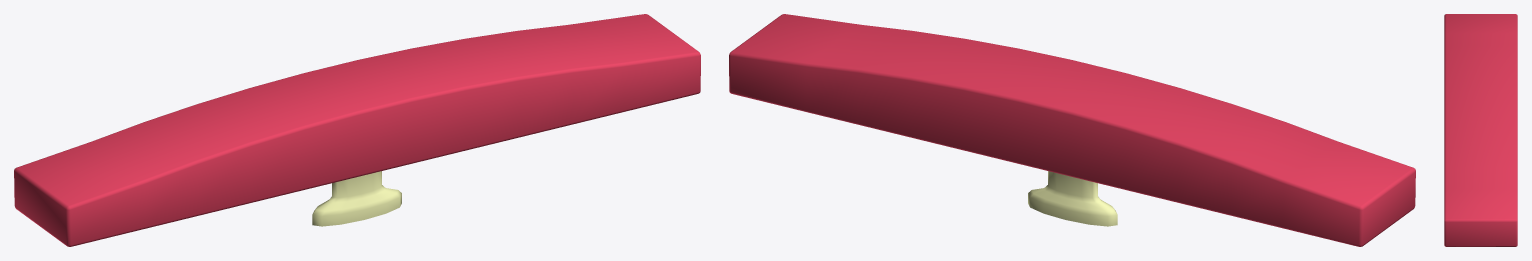
The model's file is paddlebent.fbx.
The picture shows the model from 3 angles, left to right: view 1: azimuth 30°, elevation 25°; view 2: azimuth 150°, elevation 25°; view 3: azimuth 270°, elevation 25°; orthographic projection. The views are drawn at different scales.
Visible parts, largest first — view 1: paddleblocker; view 2: paddleblocker; view 3: paddleblocker.
Part boxes in pixels (left/top/right/bottom): paddleblocker: left=14, top=14, right=700, bottom=246; paddleblocker: left=729, top=14, right=1415, bottom=246; paddleblocker: left=1444, top=14, right=1517, bottom=246.
Size of the model in its own units: 42.8 by 8.29 by 6.43.
